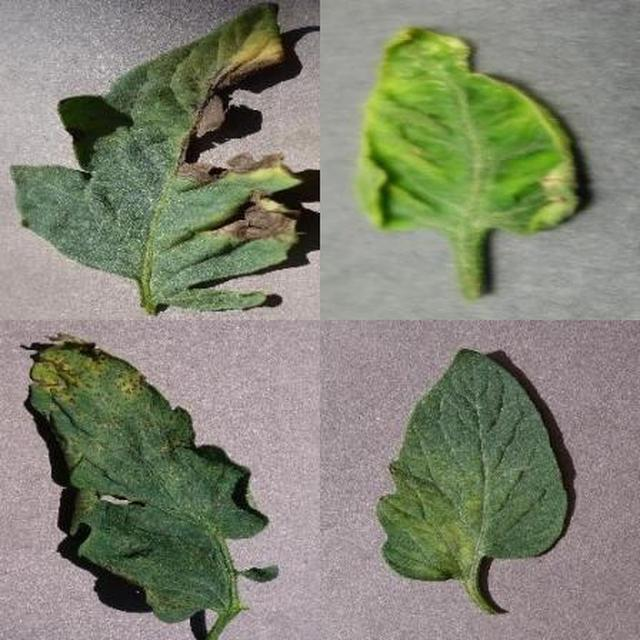Early Blight Leaf: (220, 190, 640, 640)
